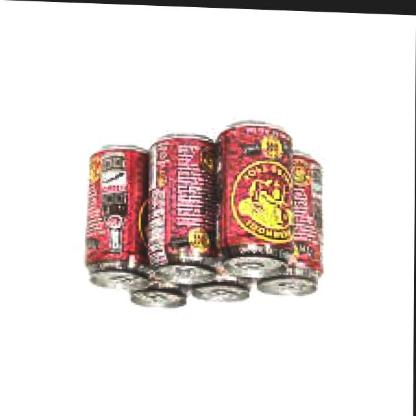Can: (217, 126, 295, 278), (147, 131, 223, 287), (253, 144, 327, 300), (82, 142, 154, 292), (187, 267, 257, 305), (124, 275, 192, 313)
